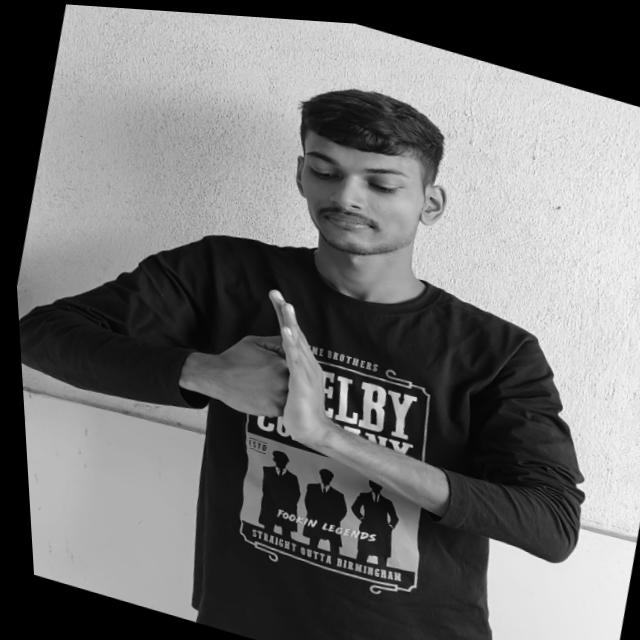Well Done: (198, 271, 351, 450)
